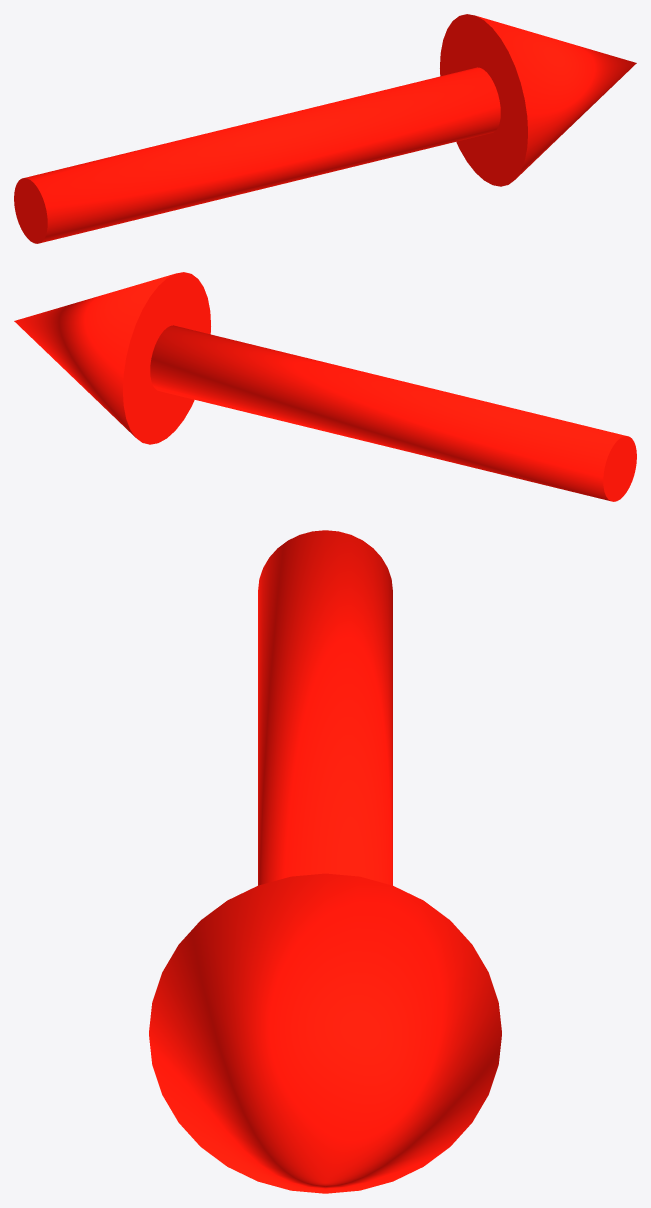
The model's file is arrow_long.fbx.
3 renders of one model, top to bottom at view 1: azimuth 30°, elevation 25°; view 2: azimuth 150°, elevation 25°; view 3: azimuth 270°, elevation 25°, orthographic. The views are drawn at different scales.
Parts seen in each view (by area): view 1: Cone; view 2: Cone; view 3: Cone.
Part boxes in pixels (box(x1,y1,x2,y2)): Cone: box(14, 14, 636, 243); Cone: box(14, 272, 636, 501); Cone: box(149, 530, 501, 1193).
Bounding box in the file's own units: 792 × 200 × 200.
